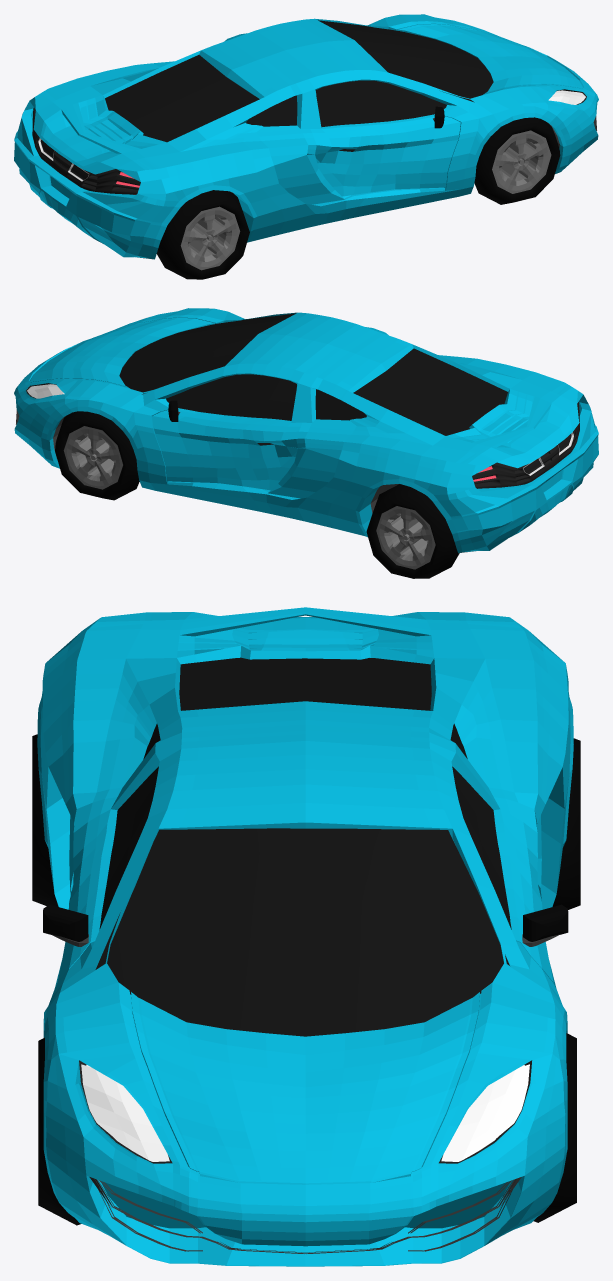
The model's file is mp4-12c_vehicle.glb.
The picture shows the model from 3 angles, top to bottom: view 1: azimuth 30°, elevation 25°; view 2: azimuth 150°, elevation 25°; view 3: azimuth 270°, elevation 25°; orthographic projection. The views are drawn at different scales.
Parts seen in each view (by area): view 1: body, tyre back right, tyre front right; view 2: body, tyre back left, tyre front left; view 3: body, tyre back left, tyre front left, tyre back right, tyre front right.
Part boxes in pixels (x1=…): body: x1=14, y1=14, x2=598, y2=259; tyre back right: x1=156, y1=190, x2=249, y2=279; tyre front right: x1=474, y1=117, x2=560, y2=204; body: x1=14, y1=308, x2=598, y2=553; tyre back left: x1=366, y1=484, x2=459, y2=578; tyre front left: x1=55, y1=411, x2=139, y2=500; body: x1=37, y1=607, x2=573, y2=1266; tyre back left: x1=552, y1=738, x2=580, y2=909; tyre front left: x1=533, y1=1033, x2=576, y2=1222; tyre back right: x1=32, y1=734, x2=58, y2=906; tyre front right: x1=38, y1=1037, x2=81, y2=1225.
Size of the model in its own units: 3.34 by 0.9426 by 1.51.
